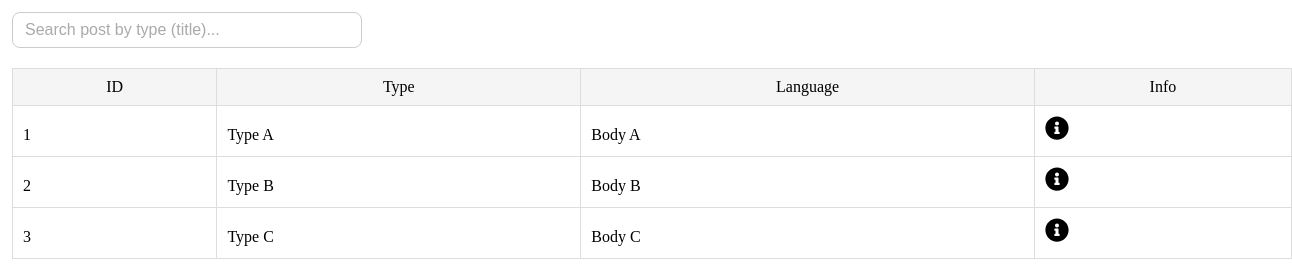
Test: Home component without passing posts prop › renders posts and filters by search input
The width and height of the screenshot is (1292, 276).
Check: the text "Type A" is shown, box [217,106,581,156]
Check: the text "Type B" is shown, box [217,156,581,208]
In the field with placeholder "Search post by type (title)...": (187,30) [12,12,362,48], type "Type B"
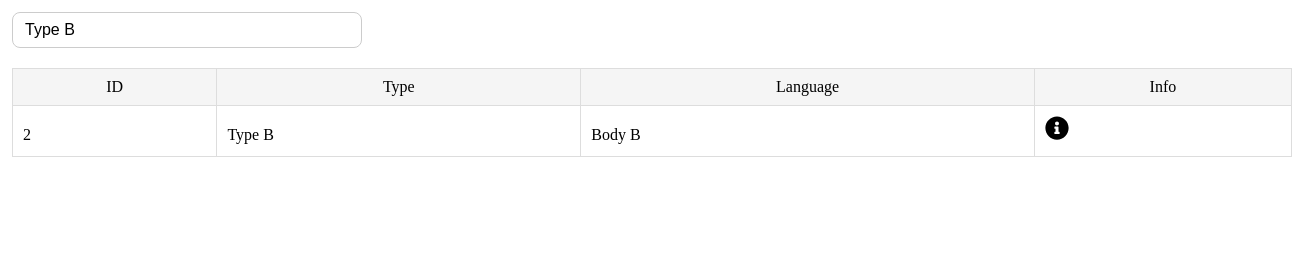
Check: the text "Type A" is gone
Check: the text "Type B" is shown, box [217,106,581,156]
Check: the text "Type C" is gone
